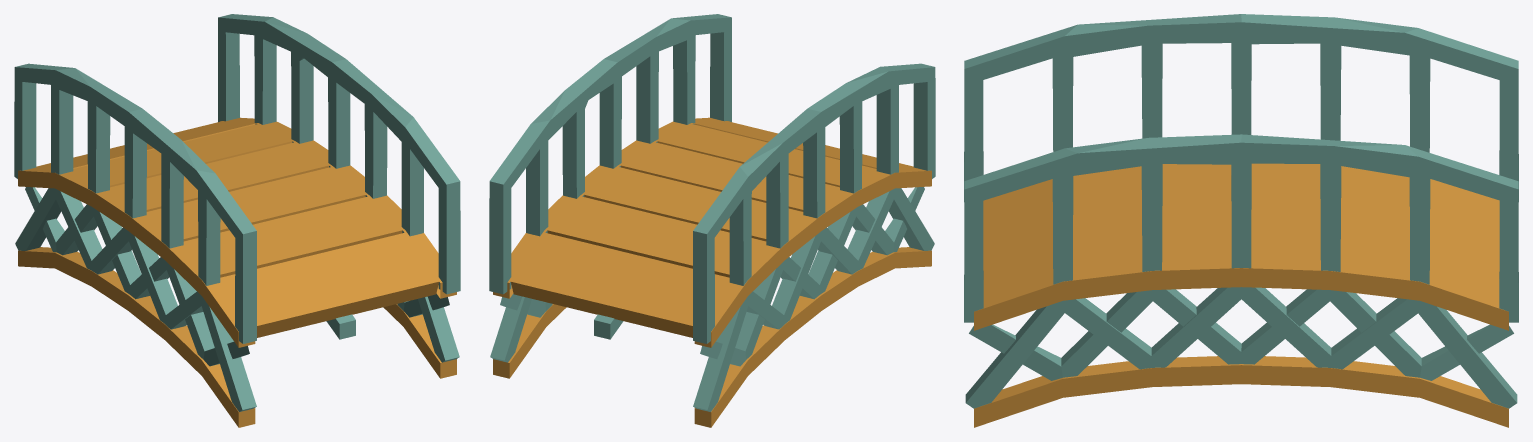
The model's file is WoodenBridge1.glb.
3 views of the same model, side by side, from view 1: azimuth 30°, elevation 25°; view 2: azimuth 150°, elevation 25°; view 3: azimuth 270°, elevation 25° (orthographic). The views are drawn at different scales.
Visible parts, largest first — view 1: bridge; view 2: bridge; view 3: bridge.
Part boxes in pixels (x1=…): bridge: x1=14, y1=14, x2=460, y2=427; bridge: x1=489, y1=14, x2=935, y2=427; bridge: x1=964, y1=14, x2=1518, y2=427.
Size of the model in its own units: 5.7 by 5.88 by 10.37.
1 material, 1 textured.
